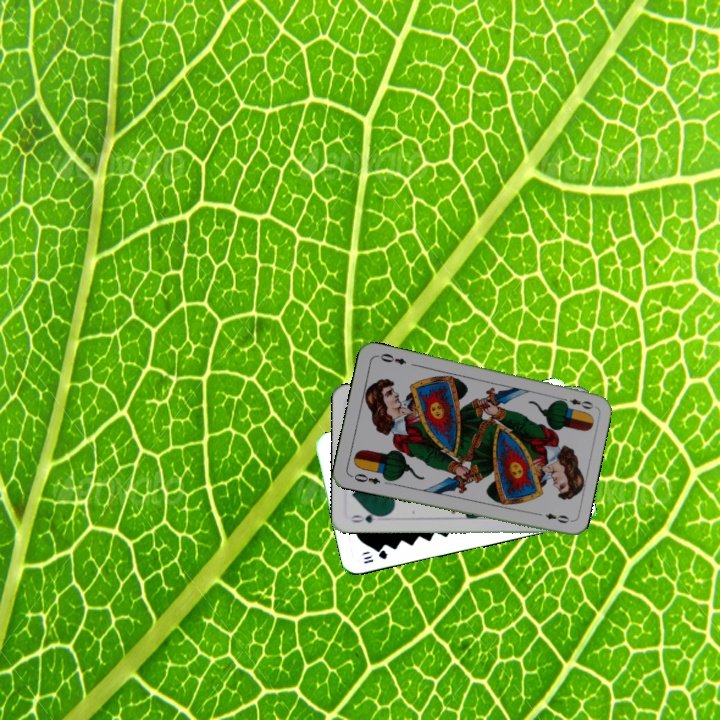EO: (556, 394, 596, 412), (347, 469, 383, 487)
G10: (360, 546, 390, 566)
GO: (346, 508, 387, 526)
